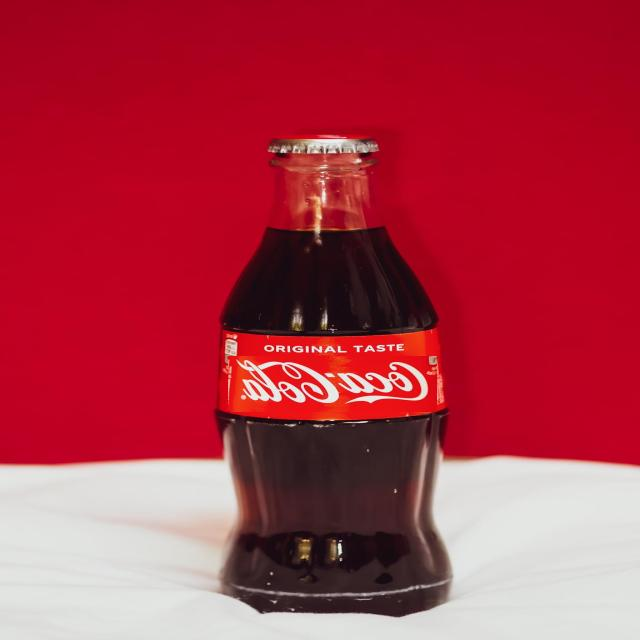coca-cola: (228, 356, 437, 412)
